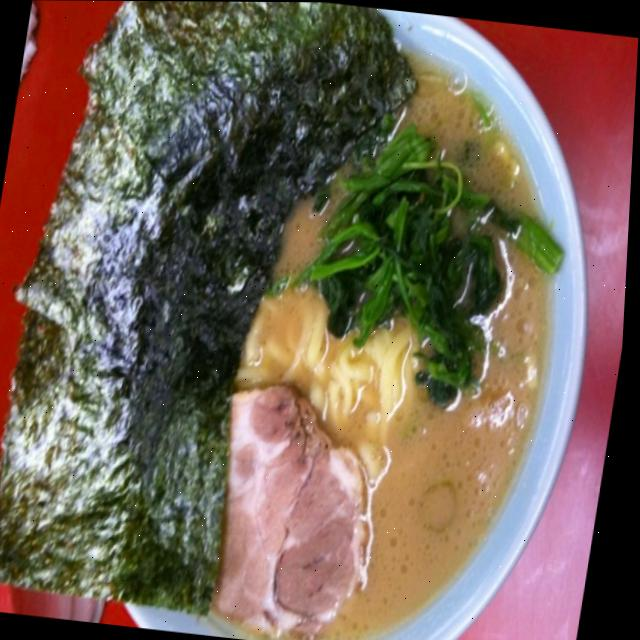面条主食: (4, 0, 638, 640)
